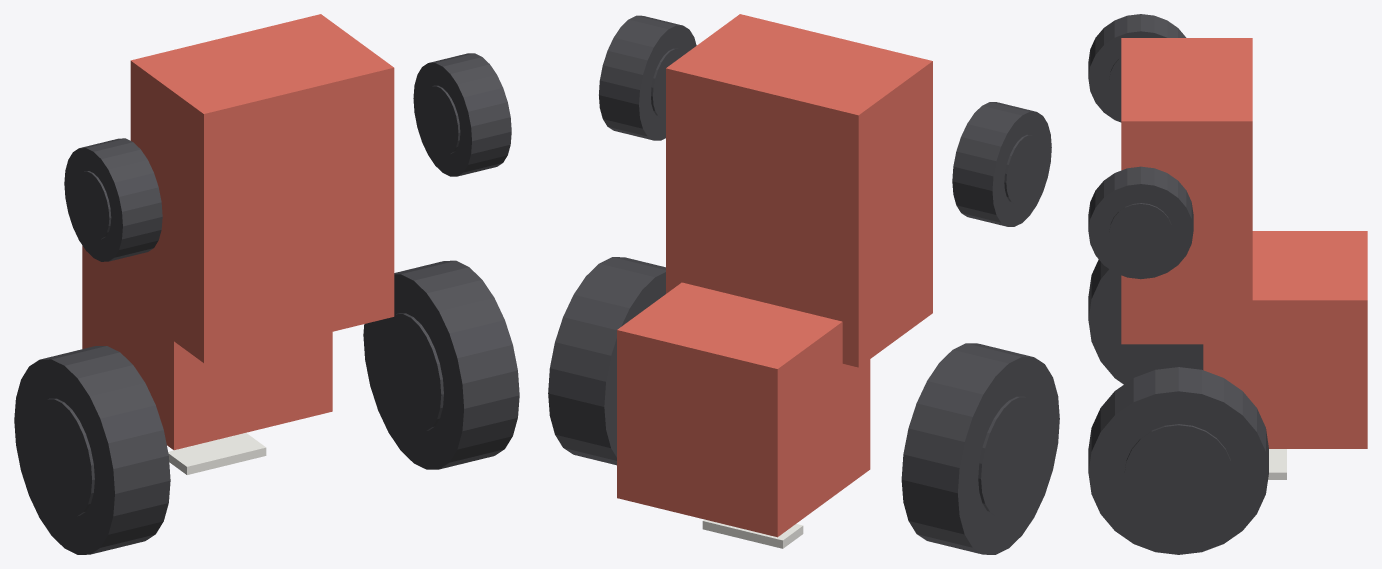
The model's file is tractor_3.glb.
3 renders of one model, left to right at view 1: azimuth 30°, elevation 25°; view 2: azimuth 150°, elevation 25°; view 3: azimuth 270°, elevation 25°, orthographic. The views are drawn at different scales.
Visible parts, largest first — view 1: Body, Wheel_RR, Wheel_RL, Cabin, Wheel_FL, Wheel_FR, Plate; view 2: Body, Cabin, Wheel_RR, Wheel_RL, Wheel_FR, Wheel_FL, Plate; view 3: Body, Wheel_RL, Cabin, Wheel_FL, Wheel_RR, Wheel_FR, Plate.
Part boxes in pixels (box(x1,y1,x2,y2)): Body: box(130, 14, 394, 362); Wheel_RR: box(14, 346, 170, 554); Wheel_RL: box(363, 260, 519, 469); Cabin: box(82, 245, 332, 450); Wheel_FL: box(413, 53, 511, 176); Wheel_FR: box(64, 138, 162, 261); Plate: box(168, 433, 266, 474); Body: box(666, 14, 932, 367); Cabin: box(617, 282, 870, 537); Wheel_RR: box(901, 343, 1059, 554); Wheel_RL: box(548, 257, 665, 465); Wheel_FR: box(952, 102, 1051, 226); Wheel_FL: box(599, 15, 696, 140); Plate: box(702, 519, 803, 548); Body: box(1121, 38, 1252, 344); Wheel_RL: box(1088, 367, 1268, 554); Cabin: box(1203, 231, 1367, 448); Wheel_FL: box(1088, 166, 1193, 279); Wheel_RR: box(1088, 259, 1203, 384); Wheel_FR: box(1088, 14, 1186, 122); Plate: box(1268, 449, 1286, 479).
Bounding box in the file's own units: 2.59 × 2.6 × 1.7.
